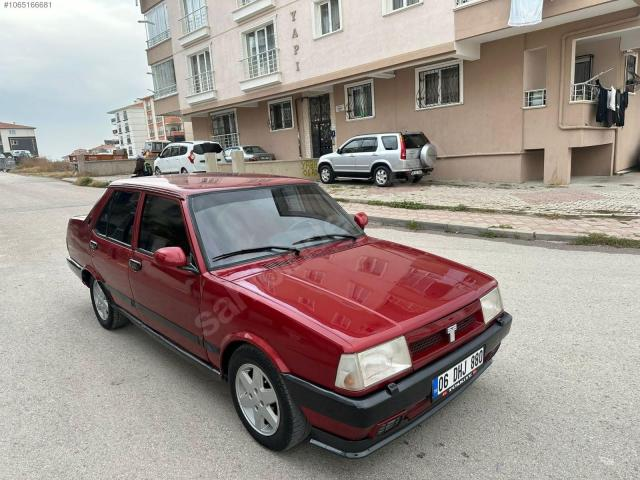plaka: (431, 347, 484, 400)
